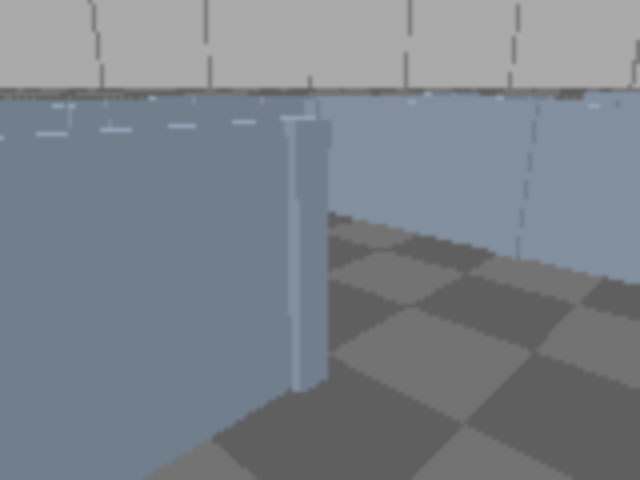person: (0, 0, 20, 278)
